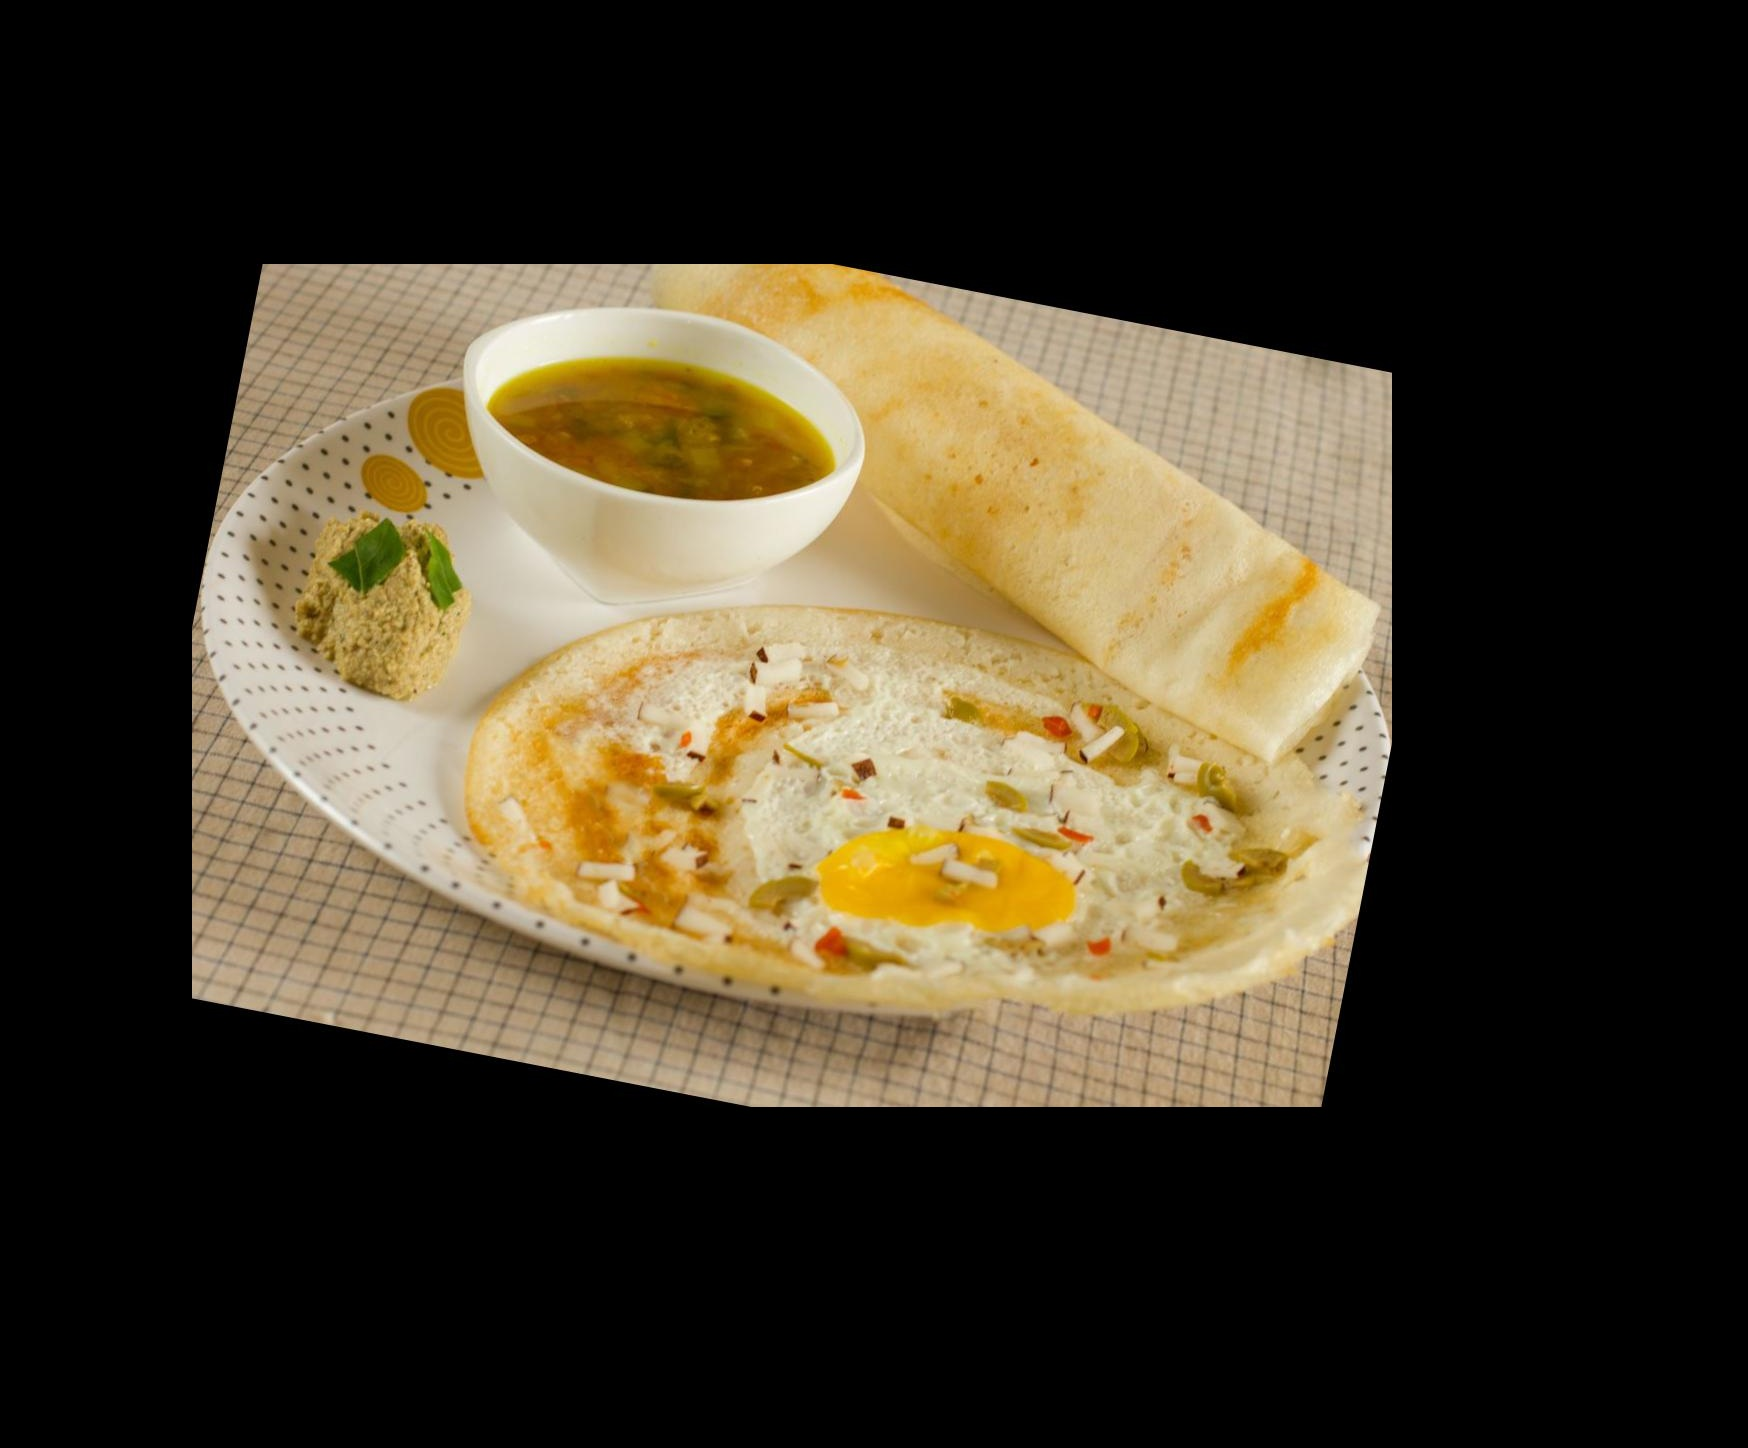dosa: (668, 259, 1376, 747)
